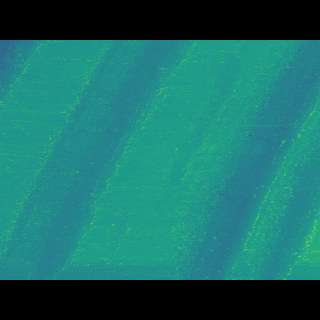Loch: (0, 69, 209, 251), (170, 69, 320, 250)
